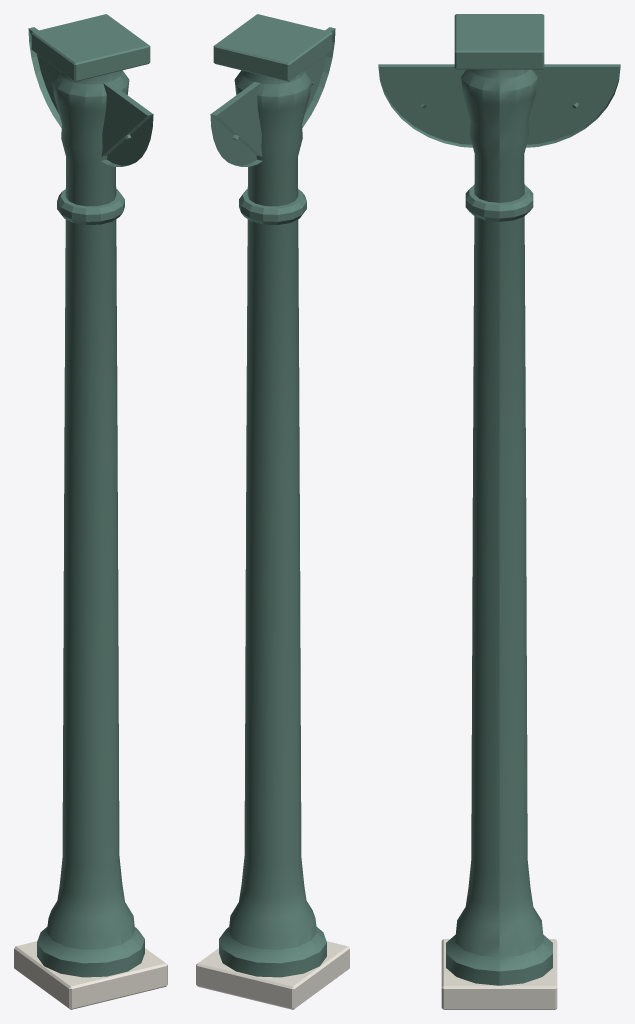
3 renders of one model, left to right at view 1: azimuth 30°, elevation 25°; view 2: azimuth 150°, elevation 25°; view 3: azimuth 270°, elevation 25°, orthographic.
Parts seen in each view (by area): view 1: cast-iron-column-module; view 2: cast-iron-column-module; view 3: cast-iron-column-module.
Boxes of the visible parts, left/top/right/bottom form: cast-iron-column-module: left=14, top=14, right=167, bottom=1009; cast-iron-column-module: left=196, top=14, right=349, bottom=1009; cast-iron-column-module: left=378, top=14, right=620, bottom=1009.
Bounding box in the file's own units: 0.44 × 4 × 0.9198.
